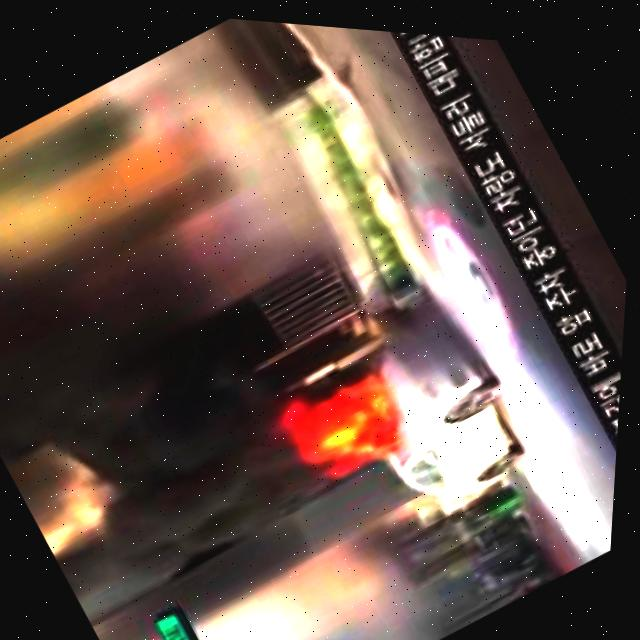Fire: (290, 359, 408, 475)
